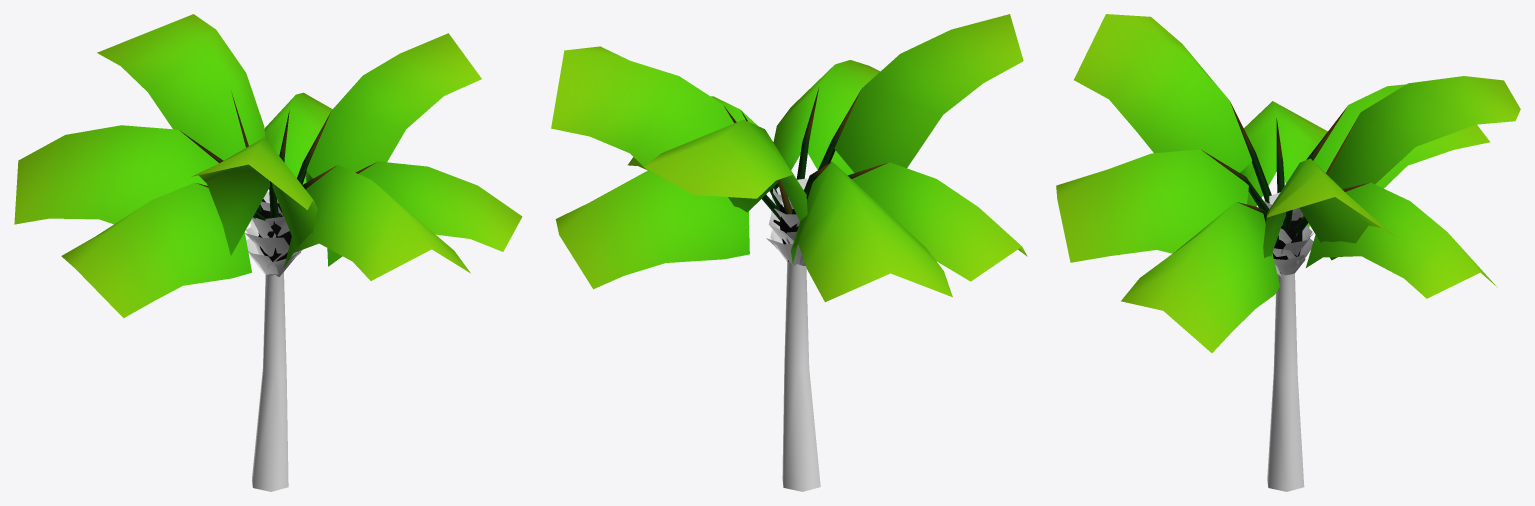
File: G_CoconutTree_003_S1.FBX
The picture shows the model from 3 angles, left to right: view 1: azimuth 30°, elevation 25°; view 2: azimuth 150°, elevation 25°; view 3: azimuth 270°, elevation 25°; orthographic projection. The views are drawn at different scales.
Parts seen in each view (by area): view 1: G_CoconutTree_003_S1_P01_LOD0; view 2: G_CoconutTree_003_S1_P01_LOD0; view 3: G_CoconutTree_003_S1_P01_LOD0.
Boxes of the visible parts, bbox=[...] form: G_CoconutTree_003_S1_P01_LOD0: bbox=[14, 14, 522, 491]; G_CoconutTree_003_S1_P01_LOD0: bbox=[551, 14, 1027, 491]; G_CoconutTree_003_S1_P01_LOD0: bbox=[1056, 14, 1520, 491].
Size of what is drawn, in the model's own units: 155 by 150 by 152.
